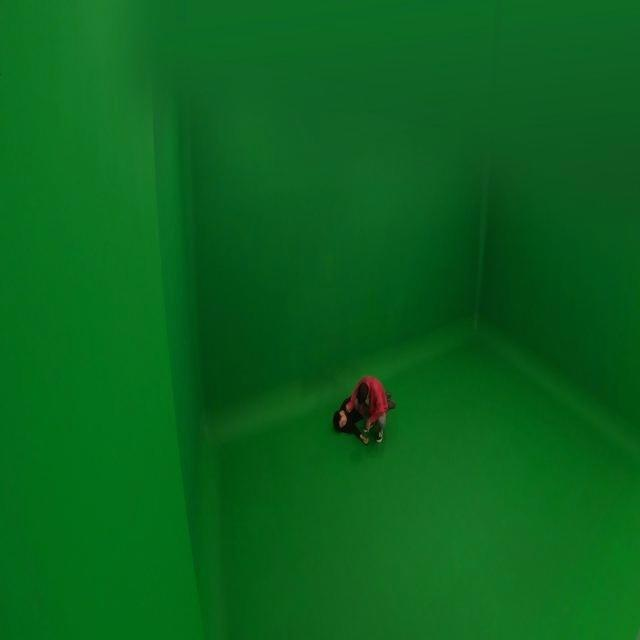fight: (332, 374, 397, 447)
